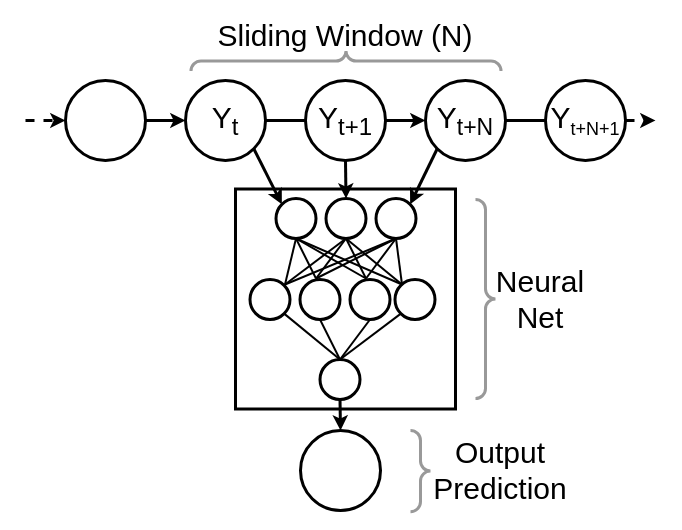
This 682x530 diagram has some shape labels left out. The shapes that lost their labels are listed below. From the top down, each one's centre as x and y in pixels, then its label:
(x=105, y=120): Y t-1
(x=340, y=470): X t+N/2
